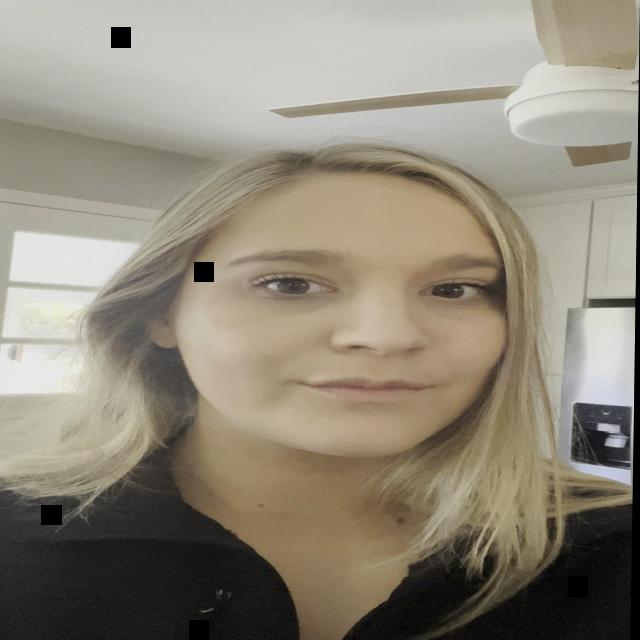NO-Mask: (125, 163, 542, 490)
